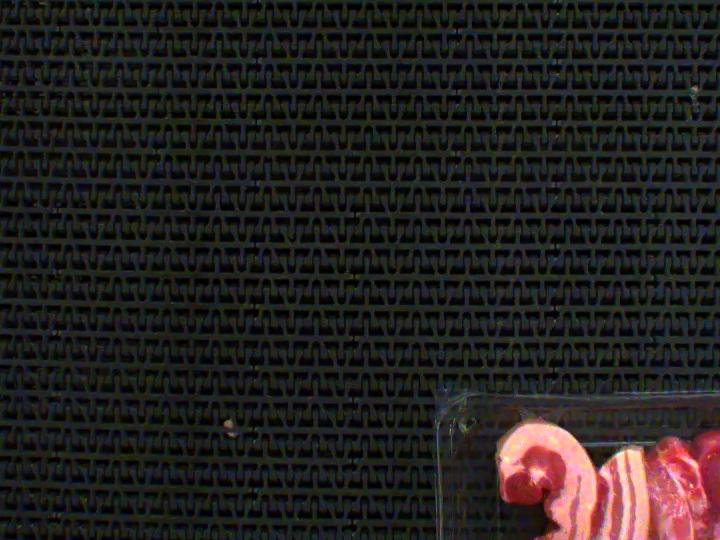packaging-error: (517, 408, 563, 428)
